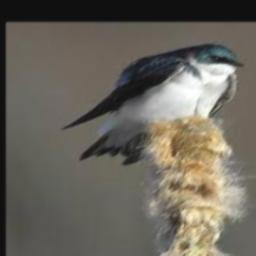Swallow: (61, 43, 249, 164)
